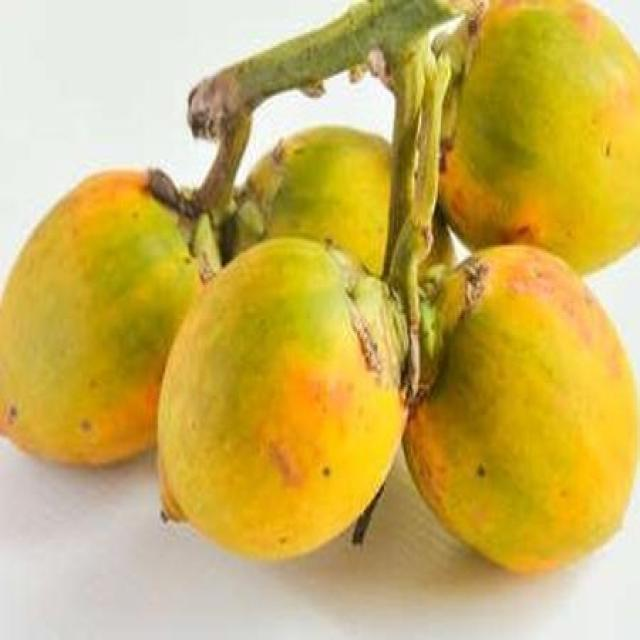good: (156, 237, 412, 564), (401, 245, 639, 578), (0, 169, 202, 471), (437, 0, 639, 279), (238, 128, 395, 277)
